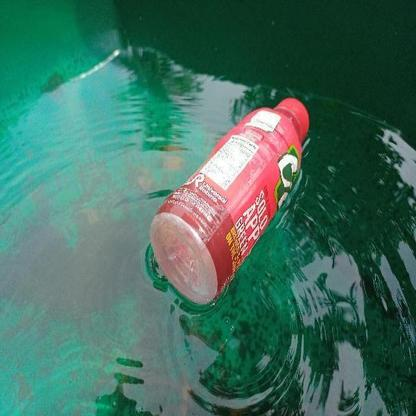plastic bottle: (149, 96, 310, 304)
